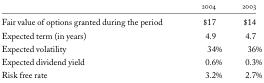table: (0, 0, 261, 79)
table column: (0, 0, 181, 79), (181, 0, 231, 79), (231, 0, 261, 79)
table column header: (0, 0, 261, 12)
table row: (0, 12, 261, 28), (0, 28, 261, 41), (0, 41, 261, 54), (0, 54, 261, 67), (0, 0, 261, 12), (0, 67, 261, 79)
